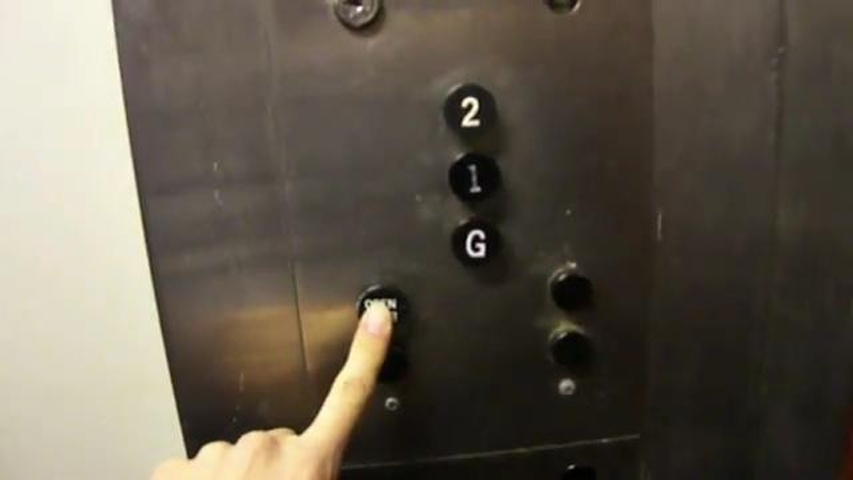1: (448, 152, 501, 202)
2: (442, 83, 496, 136)
G: (451, 217, 504, 267)
indicator: (548, 268, 593, 311), (547, 327, 593, 368)
